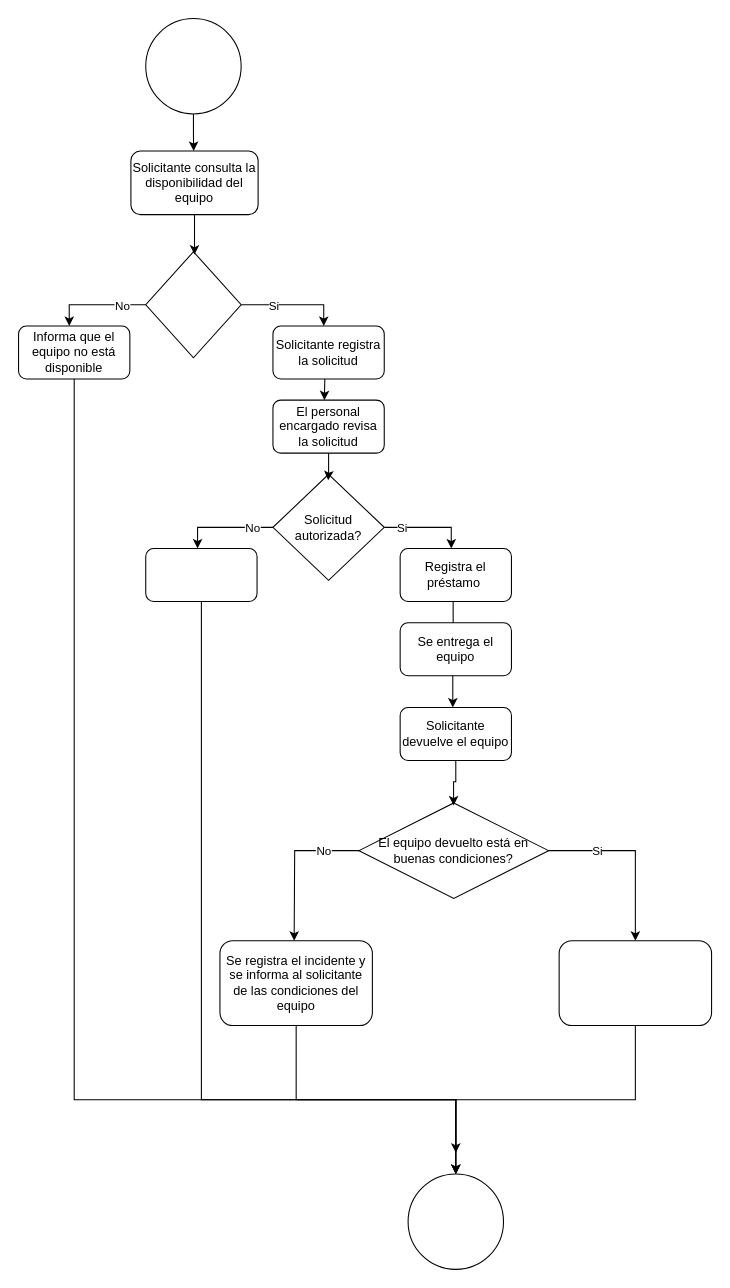
This 730x1288 diagram has some shape labels left out. The shapes that lost their labels are listed below. From the top down, each one's box as (x1, y1, x2, y2) in pixels, then its label:
(145, 17, 241, 114): Prestamo de equipo
(145, 251, 241, 358): ¿Equipo disponible?
(145, 547, 257, 602): Se informa la razón del rechazo
(558, 940, 712, 1026): Registrar devolución sin incidentes
(407, 1173, 504, 1269): Fin
